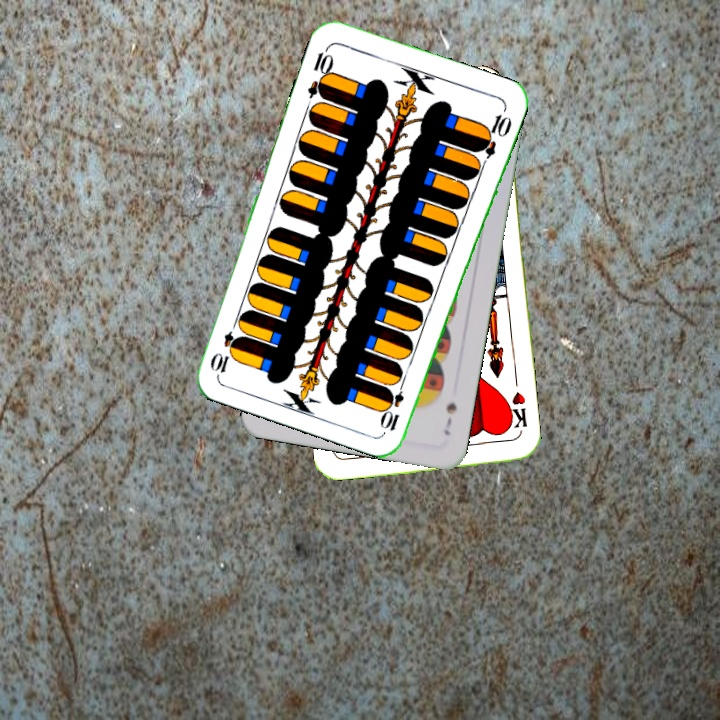E10: (303, 42, 336, 101), (379, 375, 408, 434)
HK: (502, 387, 530, 432)
S7: (440, 398, 460, 438)
